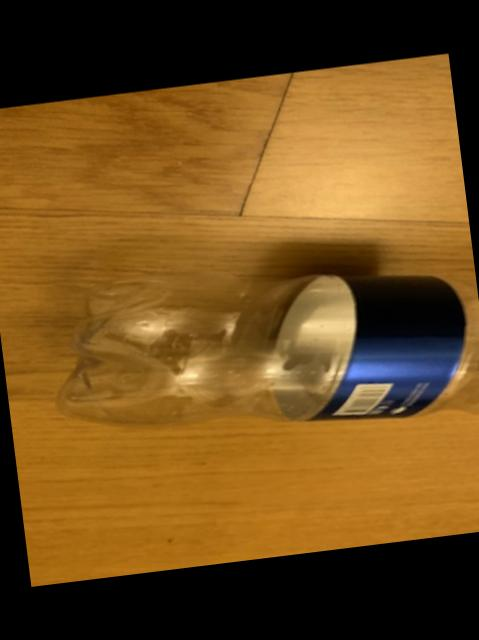plastic: (53, 273, 461, 423)
